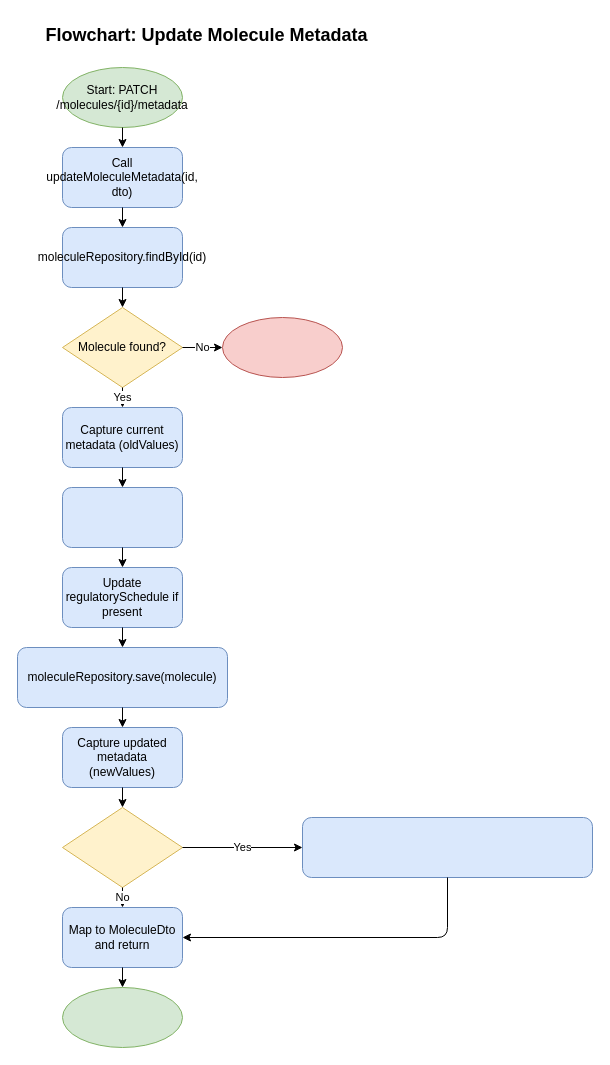
This 610x1065 diagram has some shape labels left out. The shapes that lost their labels are listed below. From the top down, each one's centre as x and y in pixels, then its label:
the point at 282,347: Throw NotFoundException
the point at 122,517: Update therapeuticClass if present
the point at 122,847: Metadata changed?
the point at 447,847: auditService.recordAudit('UPDATE_METADATA')
the point at 122,1017: End: 200 OK
